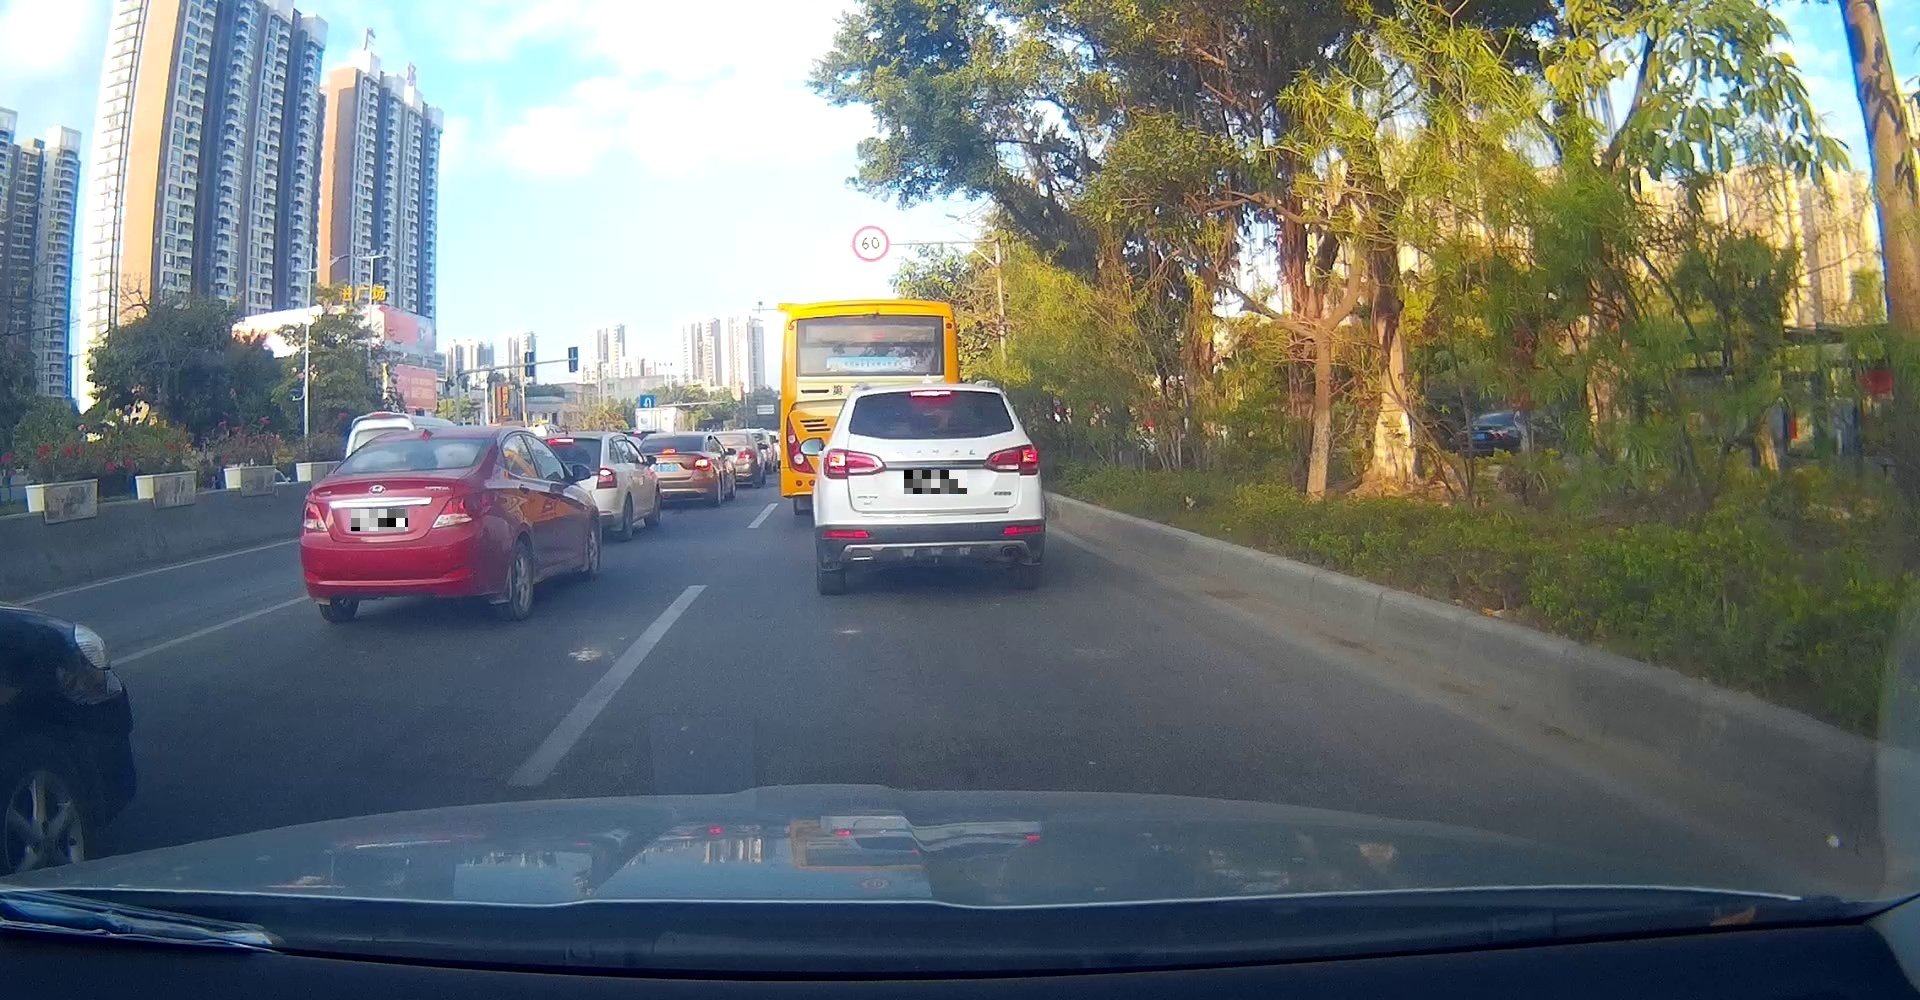L_light: (823, 448, 885, 478), (298, 501, 333, 532)
R_light: (430, 491, 500, 527), (983, 443, 1040, 476)
T_light: (909, 390, 952, 397), (378, 466, 411, 471)
day-brake: (813, 385, 1045, 595)
day-no: (298, 426, 502, 622)
plate_1: (350, 509, 408, 530)
plate_2: (904, 470, 968, 494)
